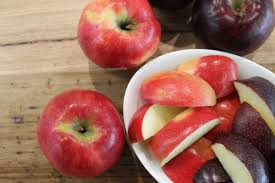apple: (39, 95, 123, 172), (80, 3, 162, 64), (194, 2, 271, 53)
